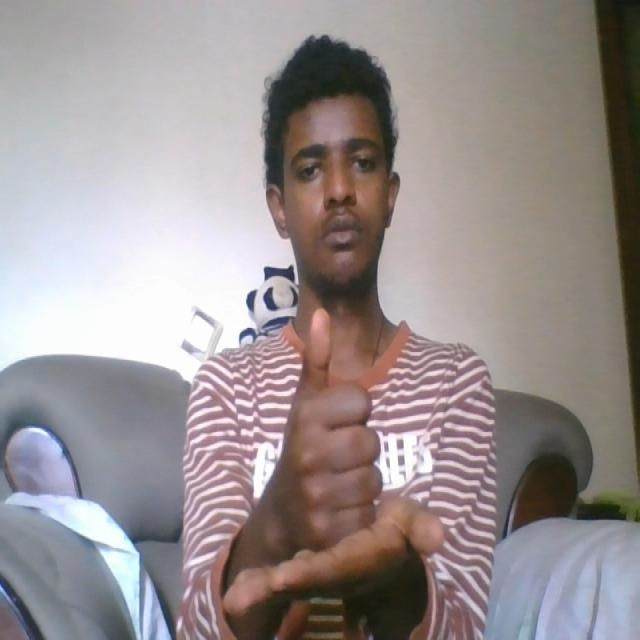amen: (217, 303, 447, 617)
